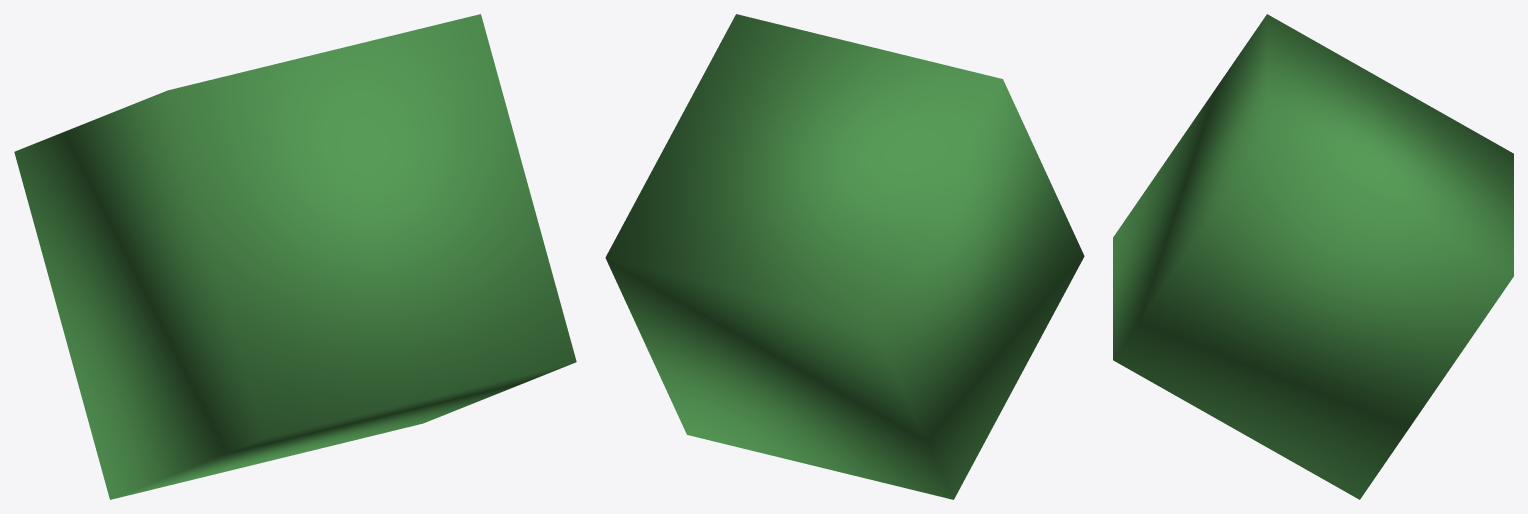
3 renders of one model, left to right at view 1: azimuth 30°, elevation 25°; view 2: azimuth 150°, elevation 25°; view 3: azimuth 270°, elevation 25°, orthographic. The views are drawn at different scales.
Parts seen in each view (by area): view 1: geo1; view 2: geo1; view 3: geo1.
Part boxes in pixels (x1,y1,x2,y2): geo1: [14, 14, 576, 499]; geo1: [605, 14, 1084, 499]; geo1: [1113, 14, 1513, 499].
Bounding box in the file's own units: 1 × 1.38 × 1.38.
